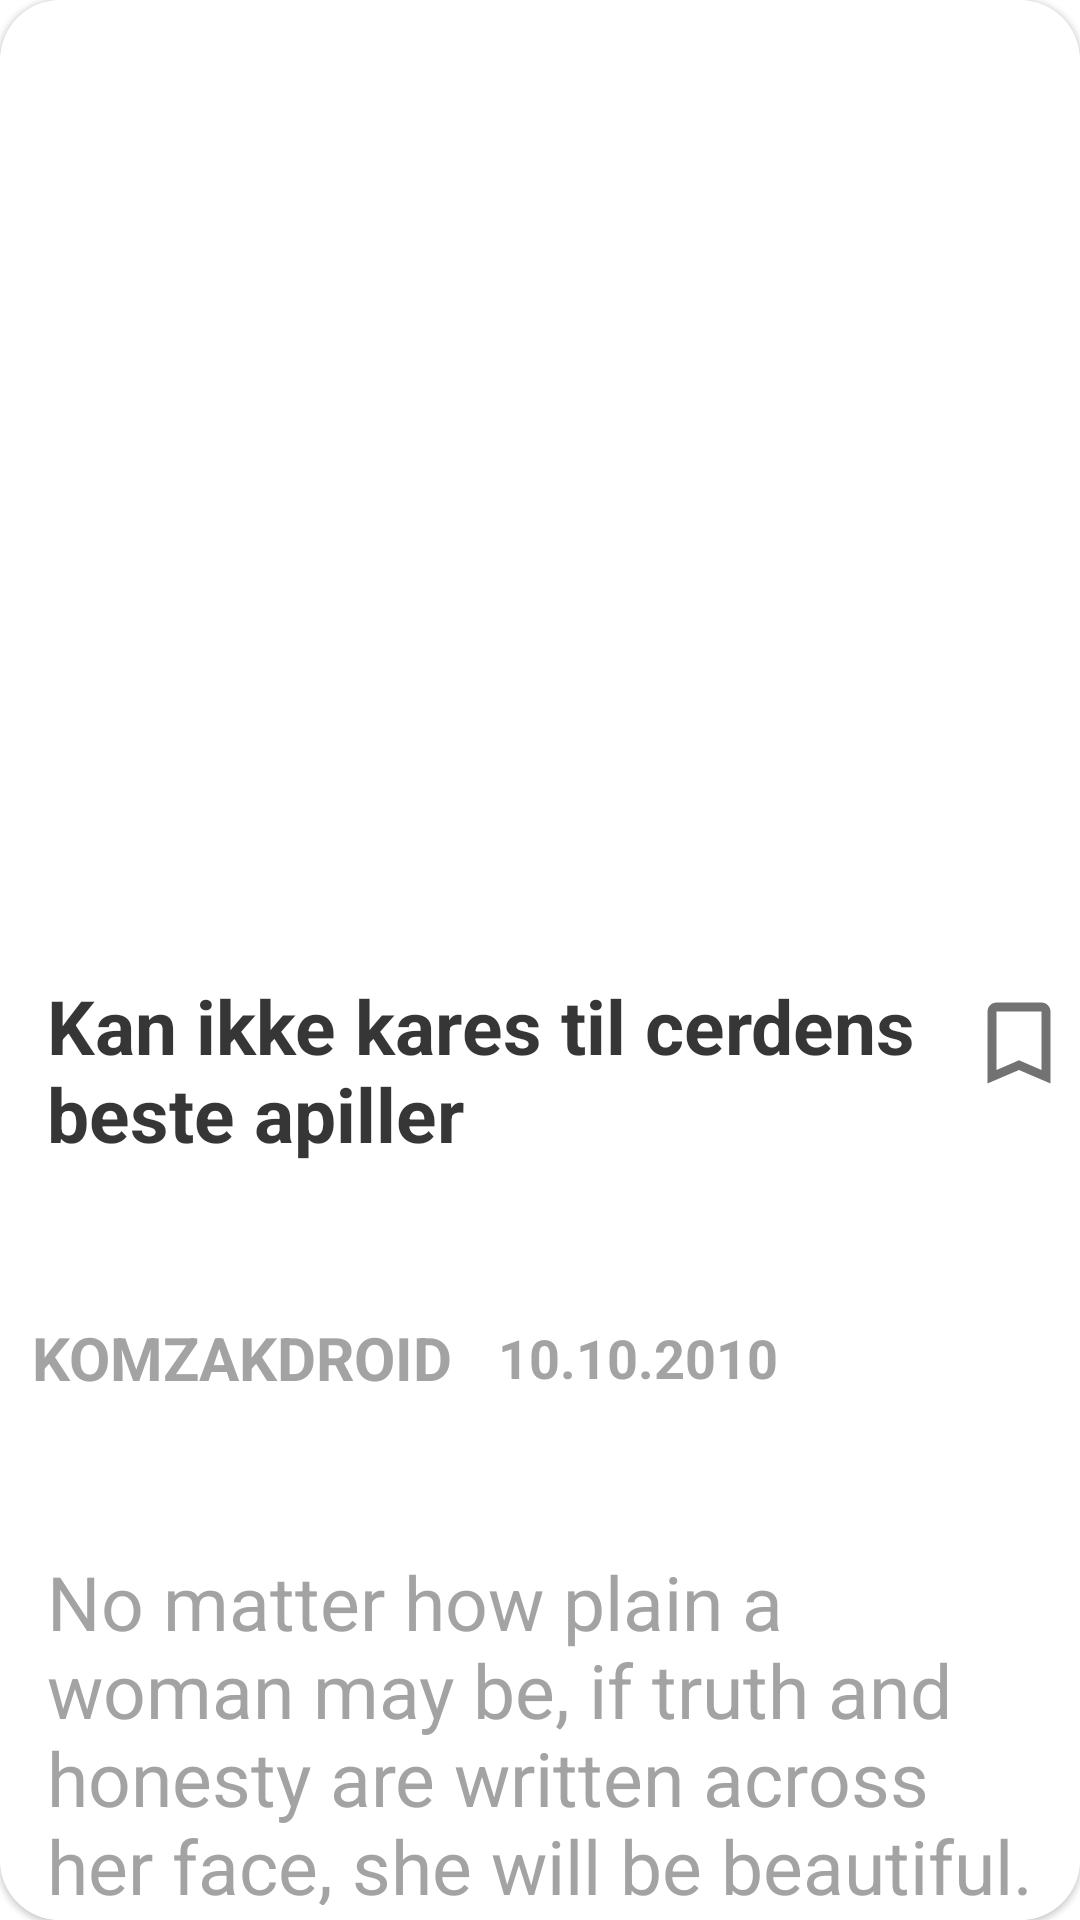

Point at icon controls on the screen. Image size 1080*1920, points as point (x, y).
bookmark notmarked: point (1019, 1043)
